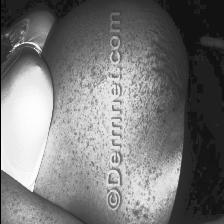Toxin: (64, 20, 107, 140), (148, 14, 176, 112), (124, 5, 145, 131), (124, 170, 152, 224)
